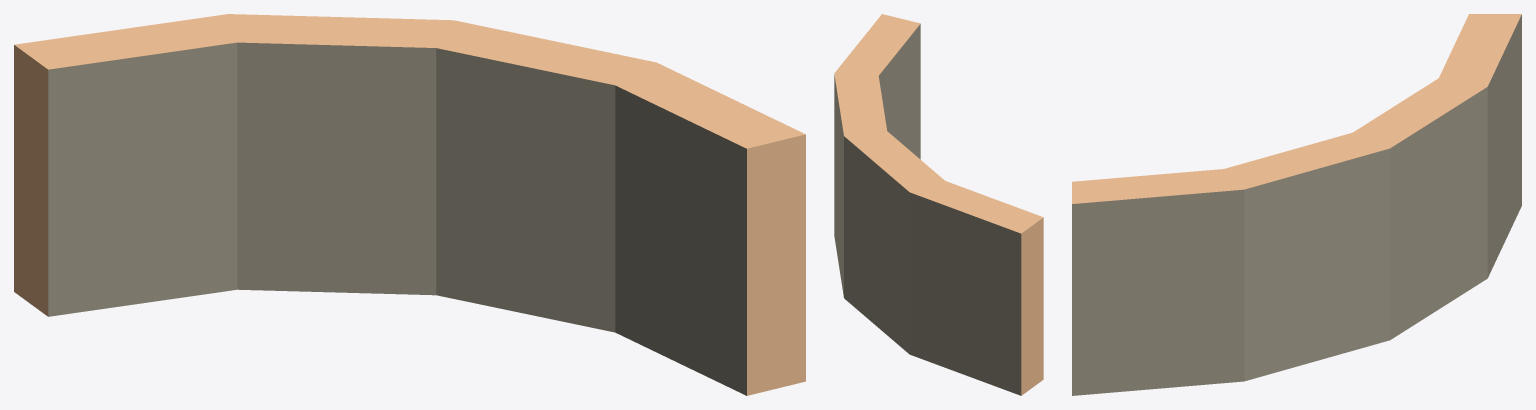
The model's file is Tiered_Retaining_Wall_Flat_Curve_2x2_Mid.glb.
The picture shows the model from 3 angles, left to right: view 1: azimuth 30°, elevation 25°; view 2: azimuth 150°, elevation 25°; view 3: azimuth 270°, elevation 25°; orthographic projection. The views are drawn at different scales.
Parts seen in each view (by area): view 1: Tiered_Retaining_Wall_Flat_Curve_2x2_Mid; view 2: Tiered_Retaining_Wall_Flat_Curve_2x2_Mid; view 3: Tiered_Retaining_Wall_Flat_Curve_2x2_Mid.
Part boxes in pixels (x1=…): Tiered_Retaining_Wall_Flat_Curve_2x2_Mid: x1=14, y1=14, x2=805, y2=395; Tiered_Retaining_Wall_Flat_Curve_2x2_Mid: x1=834, y1=14, x2=1043, y2=395; Tiered_Retaining_Wall_Flat_Curve_2x2_Mid: x1=1072, y1=14, x2=1521, y2=395.
Bounding box in the file's own units: 212 × 100 × 213.
